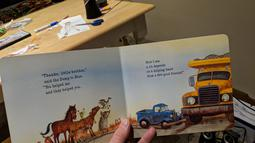text block: (39, 68, 90, 93), (141, 57, 186, 79)
